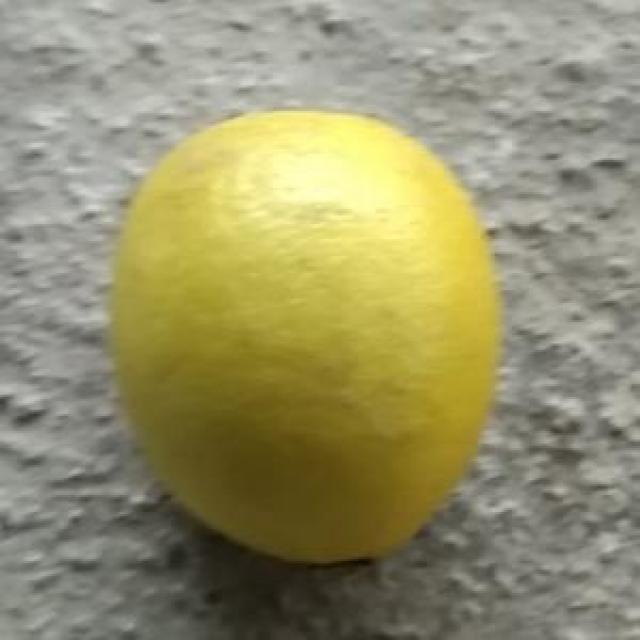lemon: (114, 104, 504, 565)
